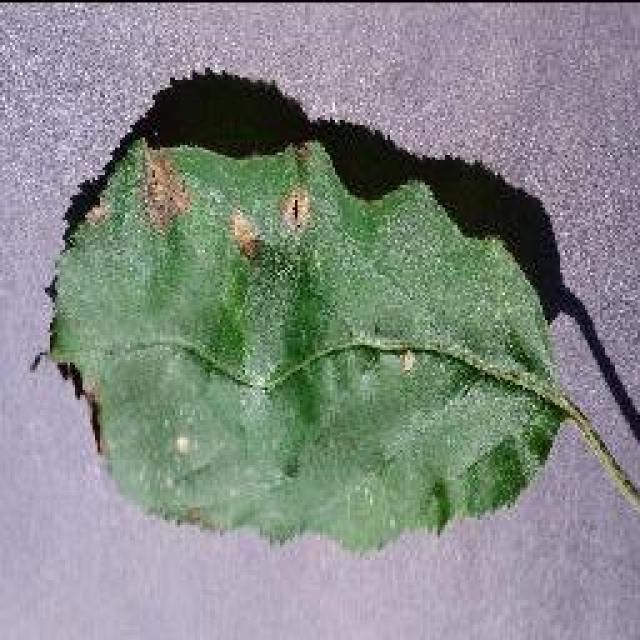Black_rot: (38, 65, 638, 560)
